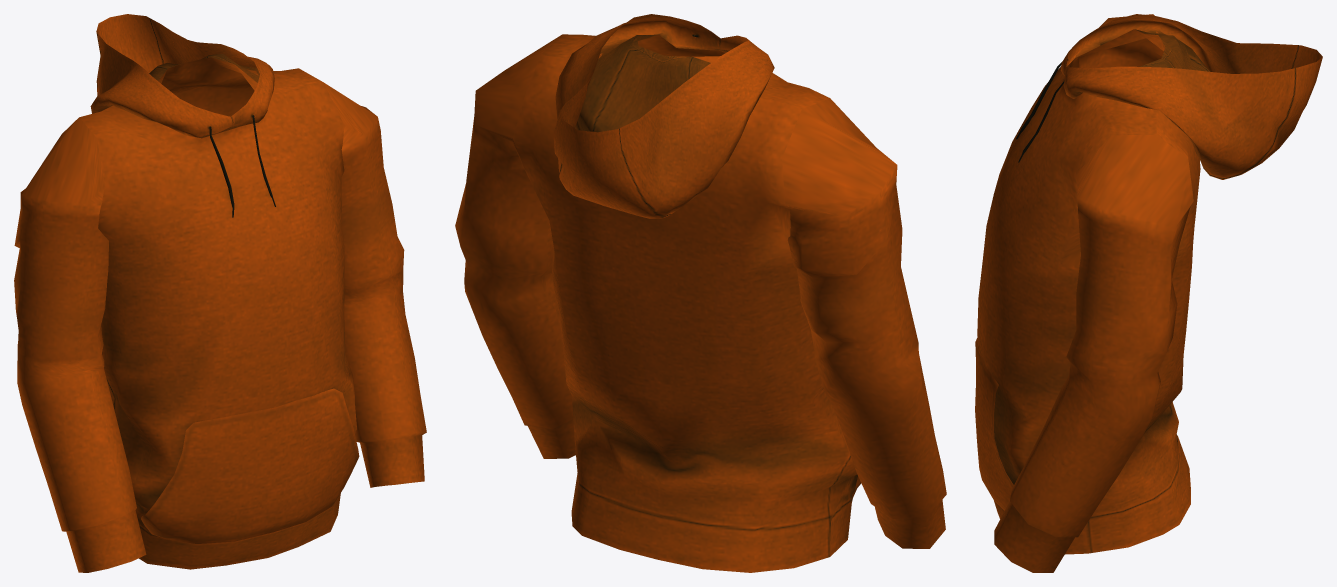
File: Hoodie_Orange.glb
3 views of the same model, side by side, from view 1: azimuth 30°, elevation 25°; view 2: azimuth 150°, elevation 25°; view 3: azimuth 270°, elevation 25° (orthographic). The views are drawn at different scales.
Parts seen in each view (by area): view 1: Hoodie_Geo; view 2: Hoodie_Geo; view 3: Hoodie_Geo.
Part boxes in pixels (x1,y1,x2,y2): Hoodie_Geo: [14, 14, 426, 572]; Hoodie_Geo: [455, 14, 946, 572]; Hoodie_Geo: [975, 14, 1322, 572].
Size of the model in its own units: 0.4784 by 0.5355 by 0.3581.
Materials: 1 (1 with a texture image).
